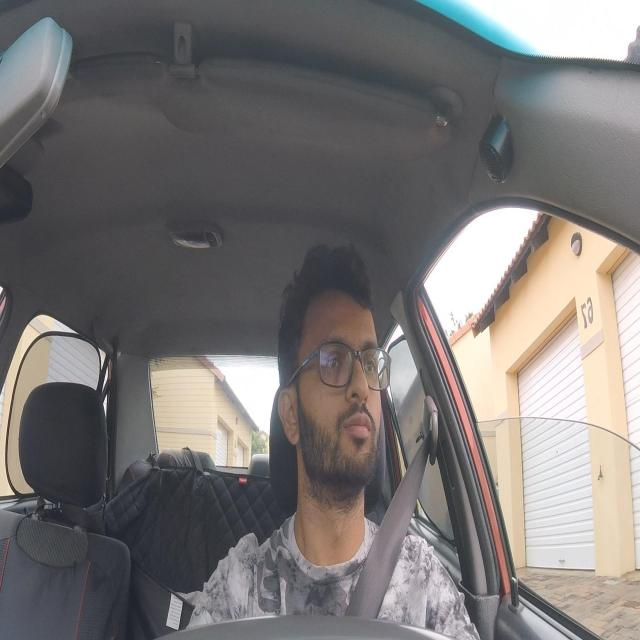open: (319, 332, 348, 382), (358, 334, 379, 384)
